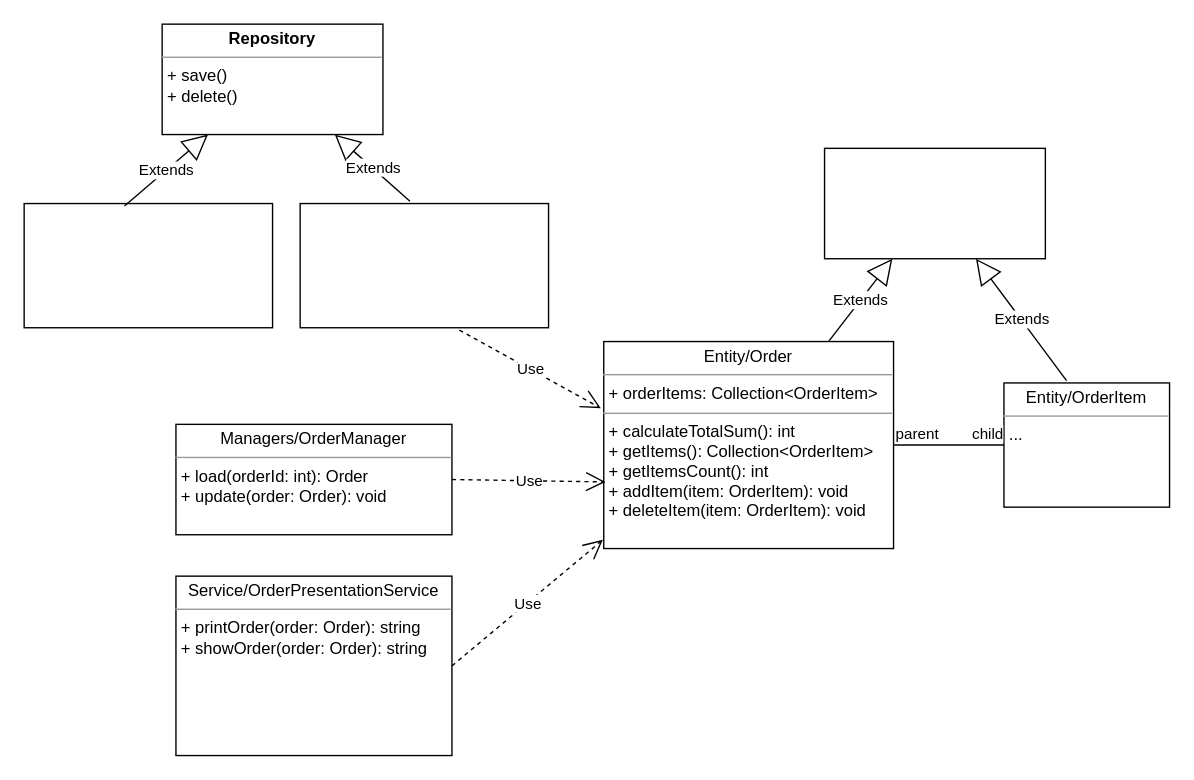
Image size: 1194x780. Some labels were removed from this diagram. The centre of each missing label's shape, as x and y in pixels:
"Entity ..." belongs at point (934, 203).
"Repository/OrderItemRepository ..." belongs at point (148, 265).
"Repository/OrderRepository + save(order Order): void + delete(order Order): void" belongs at point (424, 265).
